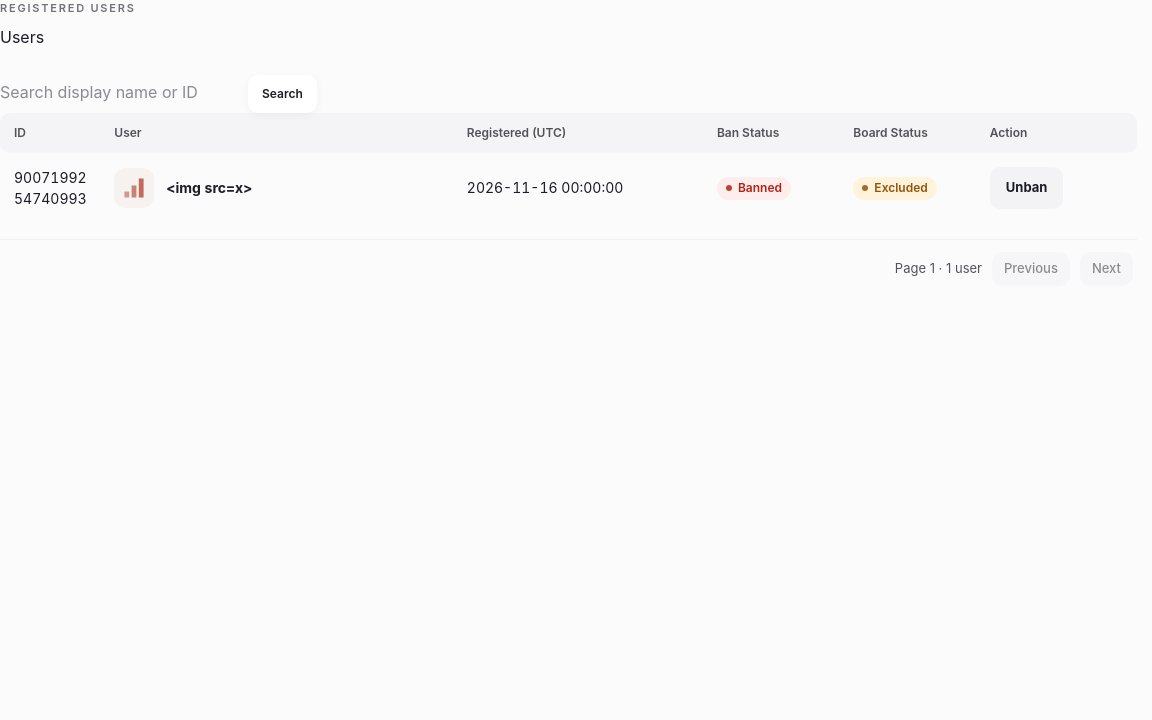
Test case: sends an explicit target state once and reports failed writes without changing the row
Later steps or results of the test are not shown.
Click the button "Unban": (1027, 188) [990,166,1063,208]
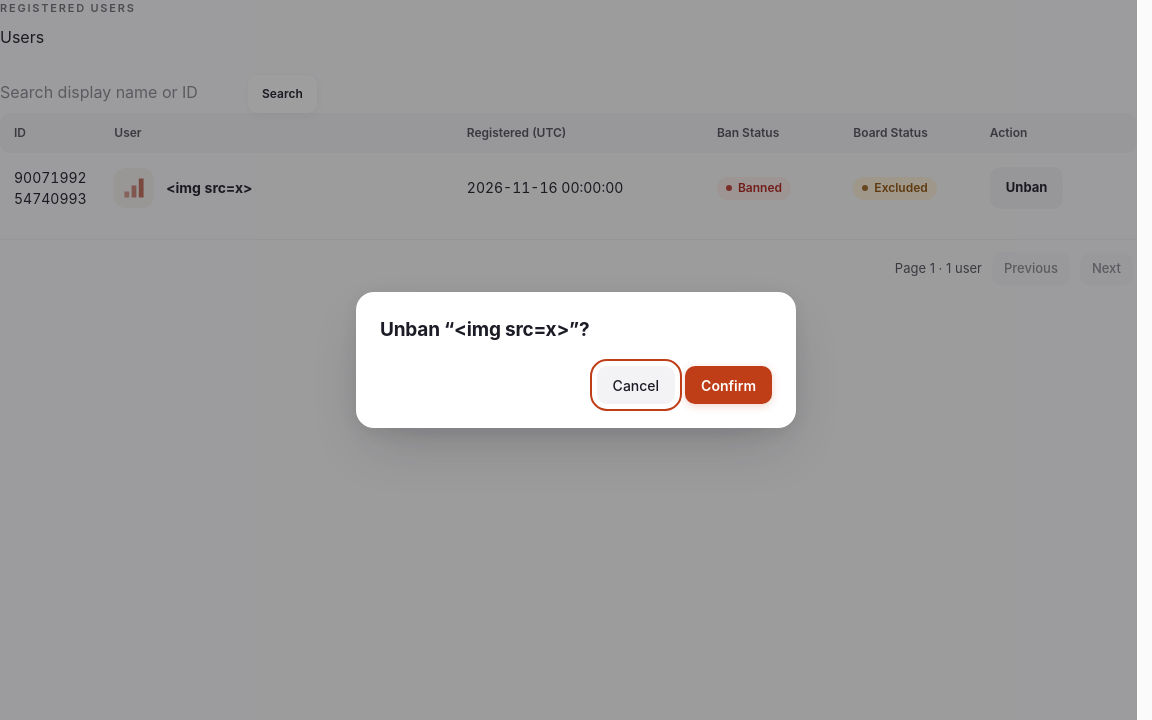
Check: the dialog shows "Unban", box [380,318,589,341]
Click the button "Confirm": (729, 385) [685,366,772,404]
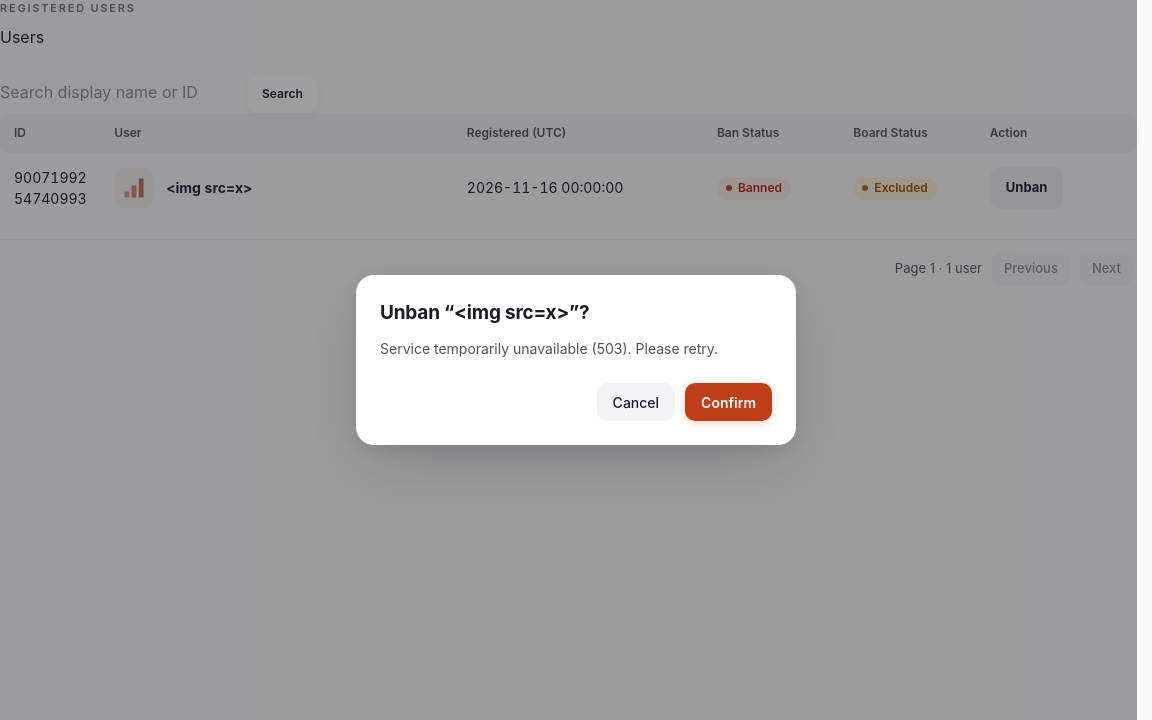
Check: the message shows "Service temporarily unavailable", box [380,340,718,357]
